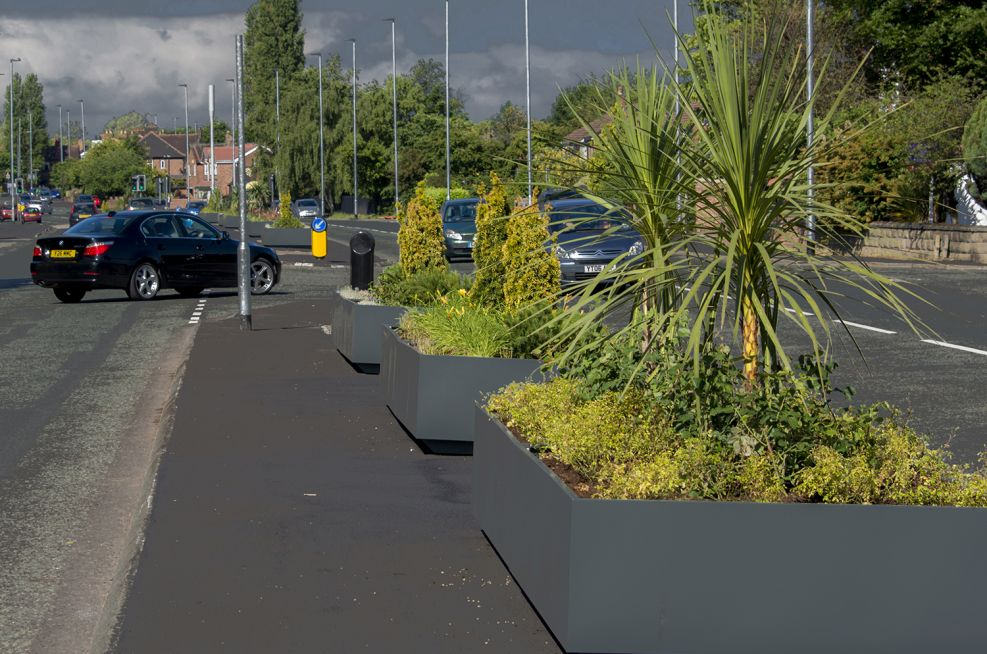plants: (571, 83, 849, 490), (245, 1, 310, 219), (399, 195, 452, 298), (502, 207, 555, 310), (405, 308, 523, 352), (471, 165, 502, 281), (327, 80, 353, 216), (361, 81, 387, 217), (407, 47, 433, 183)
